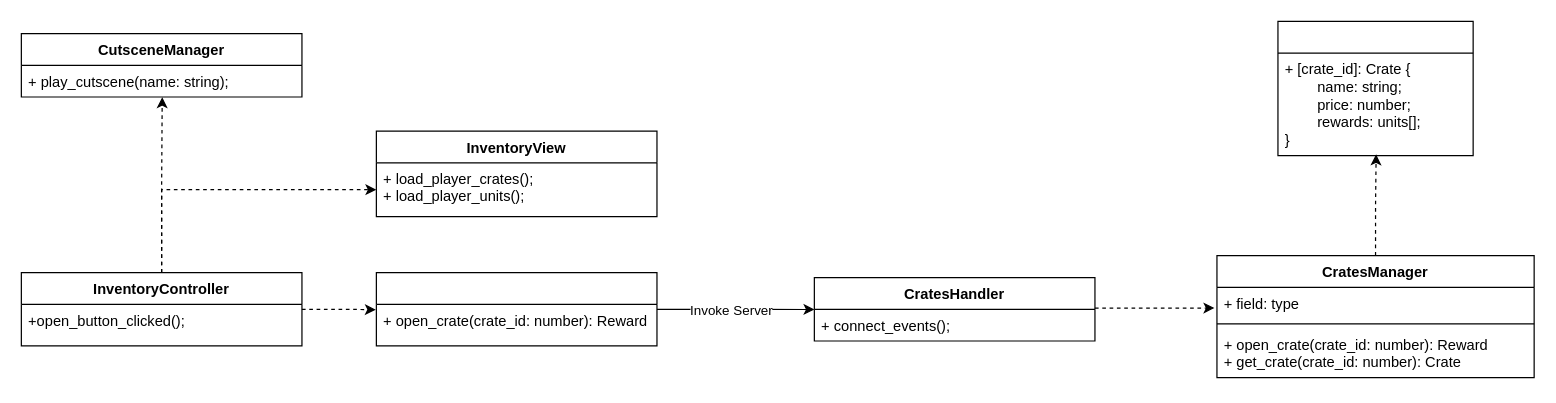
The diagram is 1556 pixels wide and 403 high, and some of its shapes have lost their labels. The box of each missing label's shape, as (x1, y1, x2, y2) in pixels:
Crates: (1277, 20, 1473, 156)
InventoryModel: (375, 271, 657, 346)
